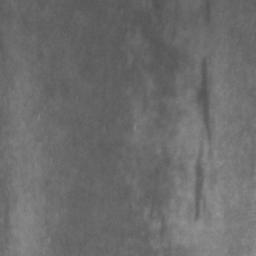Inclusion: (198, 67, 212, 142), (193, 159, 205, 219)
